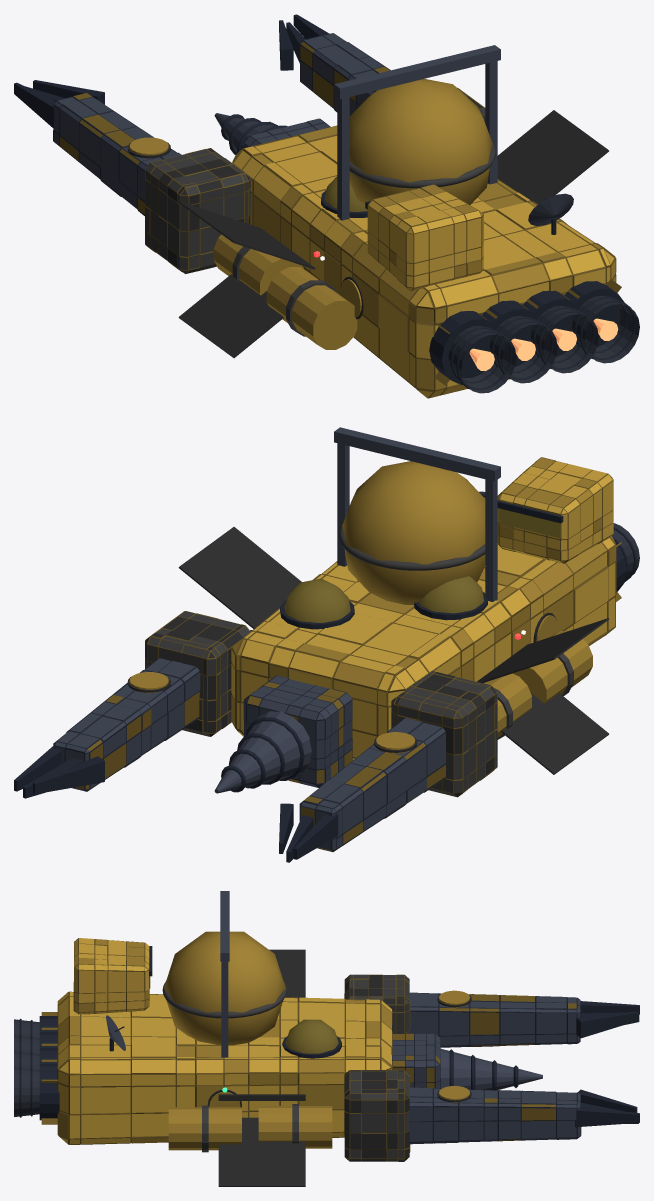
The model's file is starminer.glb.
3 views of the same model, one above another, from view 1: azimuth 30°, elevation 25°; view 2: azimuth 150°, elevation 25°; view 3: azimuth 270°, elevation 25° (orthographic). The views are drawn at different scales.
Parts seen in each view (by area): view 1: starminer_mesh, radar_mesh; view 2: starminer_mesh; view 3: starminer_mesh.
Boxes of the visible parts, left/top/right/bottom form: starminer_mesh: left=14, top=14, right=639, bottom=398; radar_mesh: left=528, top=193, right=573, bottom=234; starminer_mesh: left=14, top=427, right=639, bottom=862; starminer_mesh: left=14, top=891, right=639, bottom=1186.
Size of the model in its own units: 25.52 by 16.09 by 46.45.
